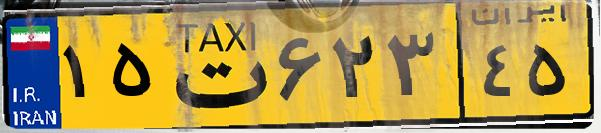1: (57, 26, 110, 100)
2: (330, 28, 385, 110)
3: (385, 28, 445, 110)
4: (475, 38, 525, 113)
5: (525, 38, 570, 115), (110, 28, 158, 98)
6: (270, 28, 330, 110)
ت: (158, 12, 270, 120)
